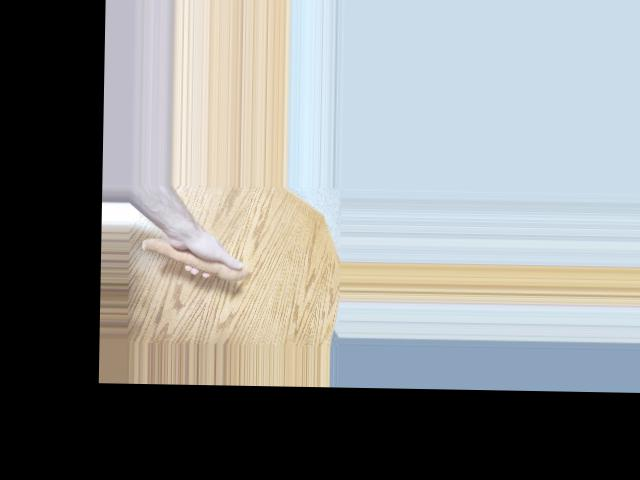sweet_potato: (140, 234, 248, 285)
